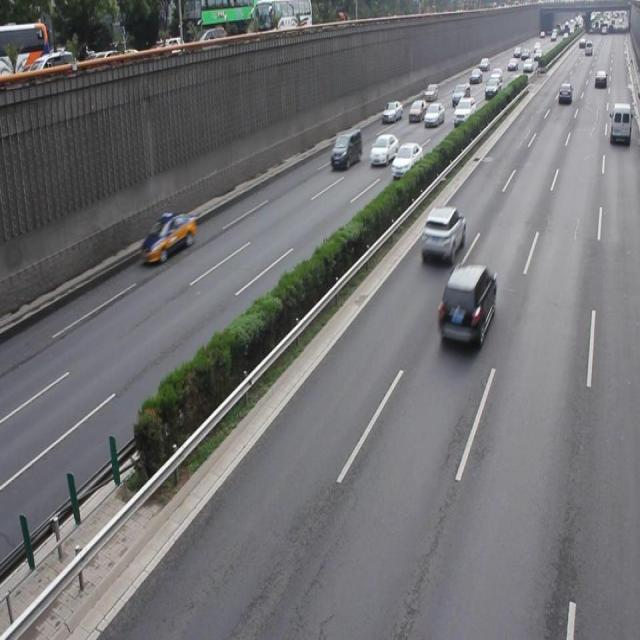car: (436, 260, 496, 349), (142, 209, 197, 262), (420, 205, 465, 262), (391, 141, 422, 177), (368, 132, 398, 167)
truck: (330, 129, 361, 171)
